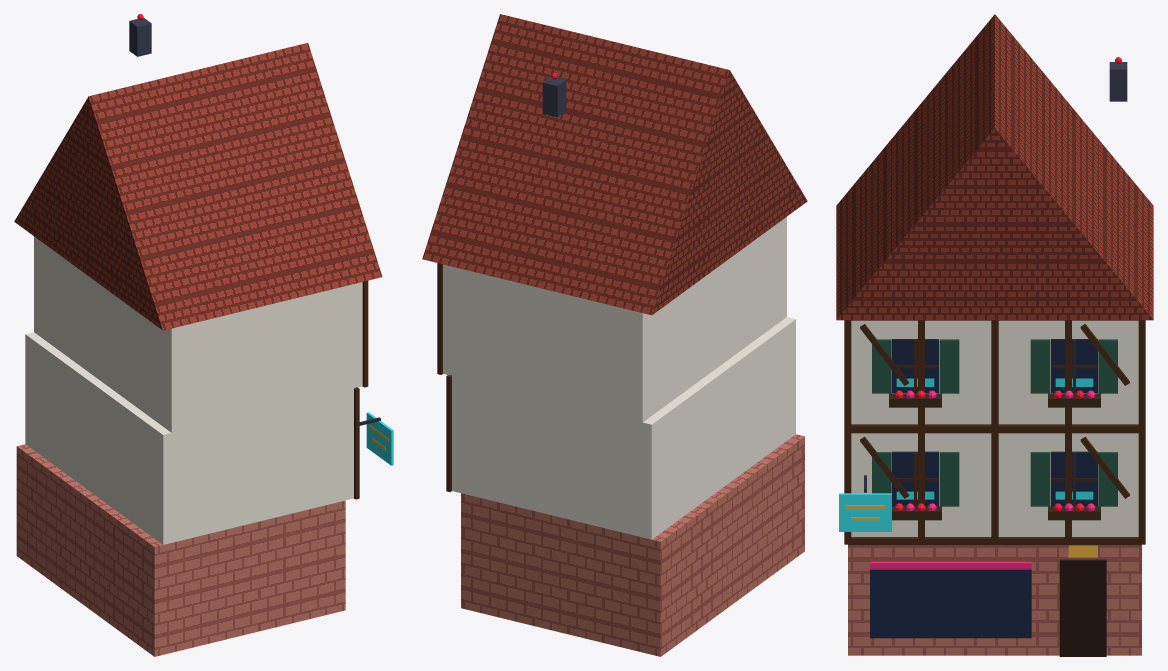
File: pf_maison_c.glb
3 views of the same model, side by side, from view 1: azimuth 30°, elevation 25°; view 2: azimuth 150°, elevation 25°; view 3: azimuth 270°, elevation 25° (orthographic). The views are drawn at different scales.
Parts seen in each view (by area): view 1: p_prism.012, p_box.1311, p_box.1316, p_box.1340, p_box.1369, p_box.1367, p_box.1343, p_box.1319; view 2: p_prism.012, p_box.1316, p_box.1311, p_box.1340, p_box.1367, p_box.1323, p_box.1347; view 3: p_prism.012, p_box.1340, p_box.1316, p_box.1311, p_box.1312, p_box.1314, p_box.1341, p_box.1317, p_box.1369, p_box.1333, p_box.1326, p_box.1357 (+30 smaller).
Boxes of the visible parts, x1,y1,x2,y2 form: p_prism.012: (14, 43, 382, 330); p_box.1311: (16, 444, 345, 656); p_box.1316: (25, 332, 353, 544); p_box.1340: (34, 236, 362, 432); p_box.1369: (366, 412, 393, 465); p_box.1367: (129, 18, 151, 56); p_box.1343: (362, 280, 368, 387); p_box.1319: (354, 387, 359, 499); p_prism.012: (422, 14, 807, 315); p_box.1316: (452, 317, 795, 539); p_box.1311: (461, 434, 804, 656); p_box.1340: (443, 217, 786, 422); p_box.1367: (542, 76, 566, 117); p_box.1323: (446, 375, 451, 491); p_box.1347: (437, 263, 442, 374); p_prism.012: (836, 14, 1153, 320); p_box.1340: (851, 320, 1138, 424); p_box.1316: (851, 433, 1138, 536); p_box.1311: (848, 545, 1141, 655); p_box.1312: (870, 569, 1031, 638); p_box.1314: (1059, 559, 1106, 656); p_box.1341: (848, 424, 1141, 432); p_box.1317: (848, 537, 1141, 545); p_box.1369: (839, 493, 891, 531); p_box.1333: (1051, 451, 1097, 506); p_box.1326: (892, 451, 938, 506); p_box.1357: (1051, 339, 1097, 393).
Bounding box in the file's own units: 4.93 × 10.46 × 5.4.
Materials: 14 (2 with a texture image).
